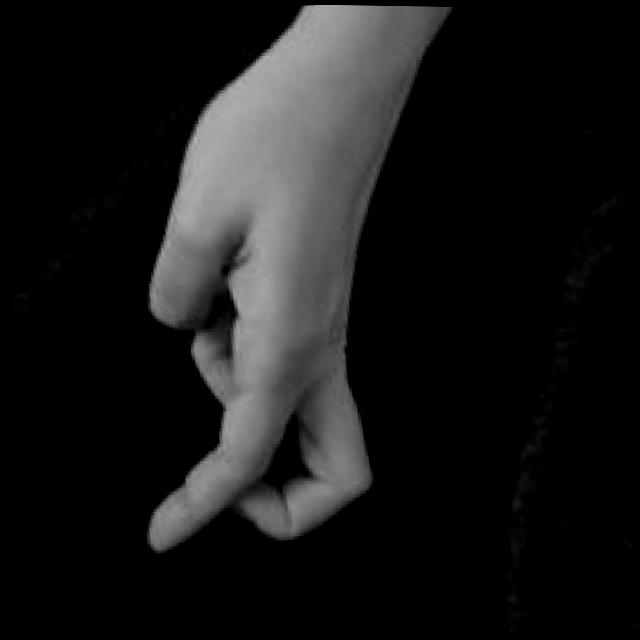P: (94, 98, 398, 570)
